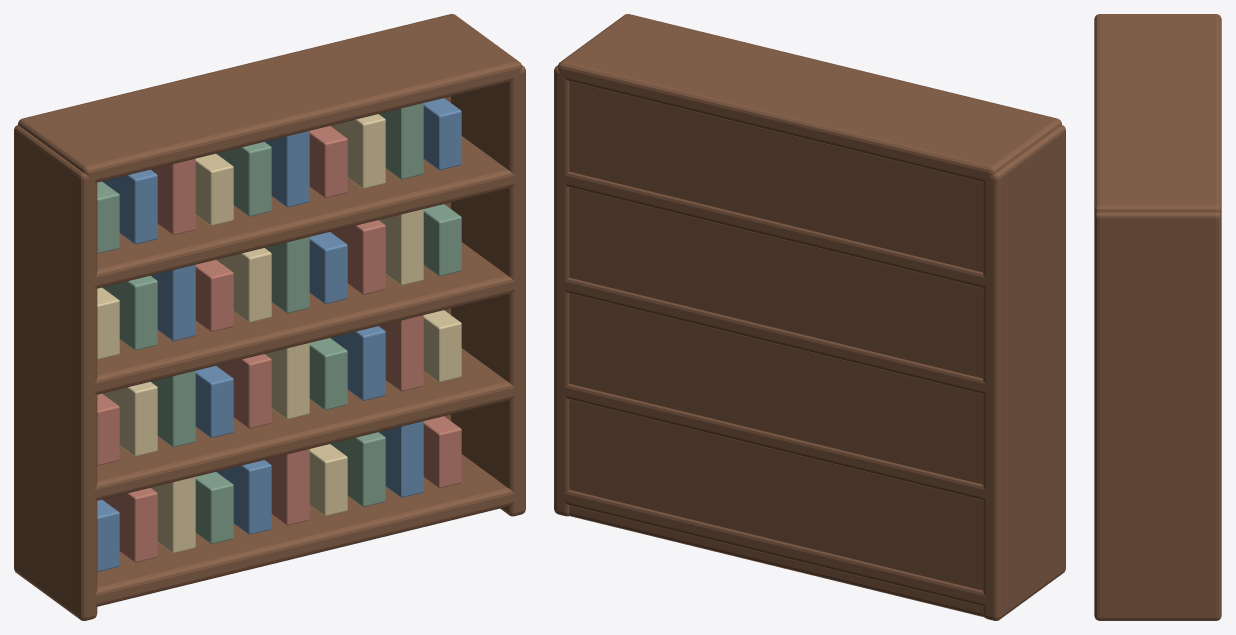
File: research-bookshelf.glb
3 renders of one model, left to right at view 1: azimuth 30°, elevation 25°; view 2: azimuth 150°, elevation 25°; view 3: azimuth 270°, elevation 25°, orthographic. The views are drawn at different scales.
Visible parts, largest first — view 1: Side, Shelf.004, Side.001, Shelf, Shelf.001, Shelf.002, Shelf.003, Book.017, Book.014, Book.027, Book.031, Book.007 (+35 smaller); view 2: Back, Side, Shelf.004, Shelf, Shelf.001, Shelf.002, Shelf.003, Side.001; view 3: Side.001, Shelf.004.
Boxes of the visible parts, x1,y1,x2,y2 form: Side: (14, 125, 97, 620); Shelf.004: (18, 14, 521, 182); Side.001: (451, 65, 525, 516); Shelf: (90, 454, 518, 606); Shelf.001: (90, 348, 518, 500); Shelf.002: (90, 242, 515, 394); Shelf.003: (90, 136, 515, 288); Book.017: (330, 326, 385, 400); Book.014: (216, 354, 271, 428); Book.027: (330, 220, 385, 294); Book.031: (102, 169, 157, 244); Book.007: (330, 432, 385, 506); Back: (569, 81, 983, 616); Side: (983, 125, 1065, 620); Shelf.004: (558, 14, 1061, 182); Shelf: (560, 490, 989, 606); Shelf.001: (560, 383, 989, 500); Shelf.002: (560, 277, 989, 394); Shelf.003: (560, 171, 988, 288); Side.001: (554, 65, 569, 516); Side.001: (1094, 212, 1221, 620); Shelf.004: (1094, 14, 1221, 213).
Size of the model in its own units: 2.29 by 2.23 by 0.62.
